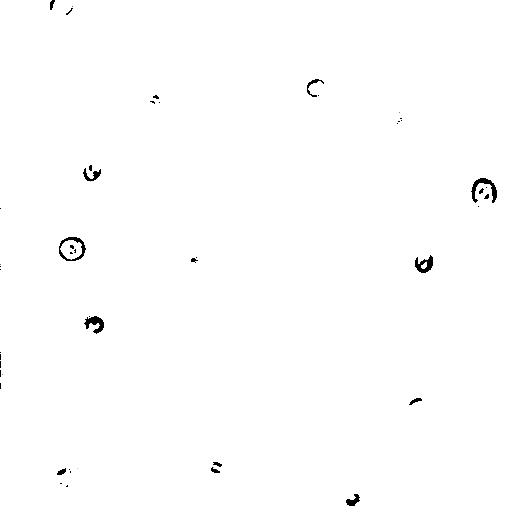micro-algae: (165, 270, 221, 329), (370, 87, 415, 142), (179, 239, 213, 280), (50, 463, 83, 495), (470, 176, 499, 209), (57, 235, 87, 262), (412, 250, 436, 275), (79, 312, 104, 336), (47, 0, 75, 20), (247, 0, 276, 16), (305, 77, 327, 98), (407, 395, 431, 413), (83, 161, 101, 183), (1, 357, 14, 386), (344, 492, 363, 507), (163, 0, 178, 5)
